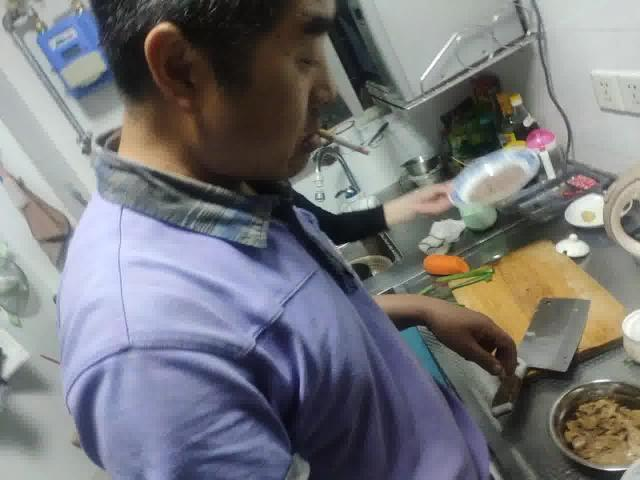Smoking: (316, 126, 369, 156)
